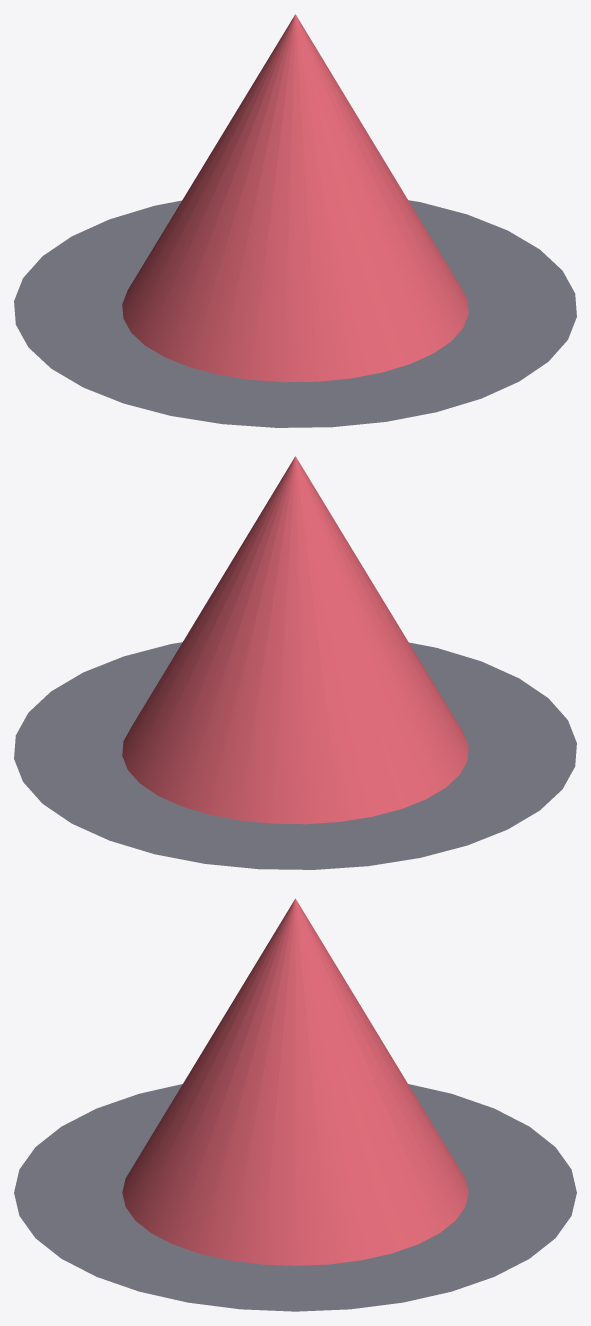
Rendered from HatRobot.glb.
The picture shows the model from 3 angles, top to bottom: view 1: azimuth 30°, elevation 25°; view 2: azimuth 150°, elevation 25°; view 3: azimuth 270°, elevation 25°; orthographic projection.
Parts seen in each view (by area): view 1: hat; view 2: hat; view 3: hat.
Boxes of the visible parts, box(x1,y1,x2,y2) form: hat: box(14, 14, 576, 427); hat: box(14, 456, 576, 869); hat: box(14, 898, 576, 1311).
Bounding box in the file's own units: 0.0208 × 0.012 × 0.0208.
